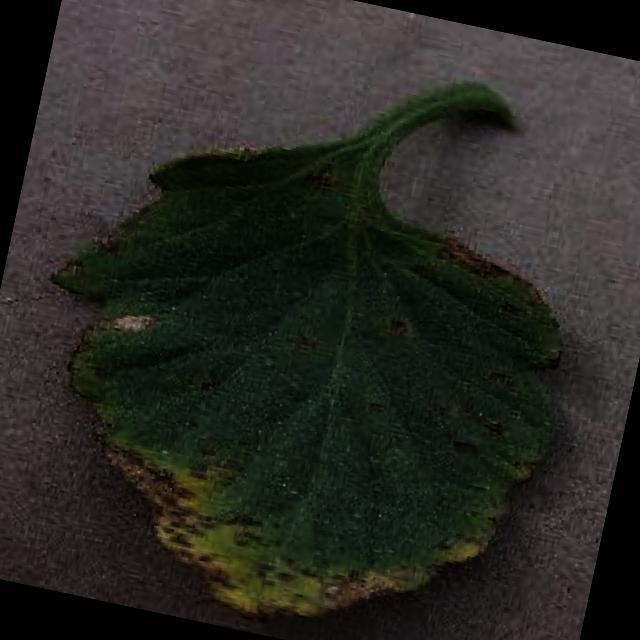Tomato bacterial spot leaf: (0, 85, 616, 640)
